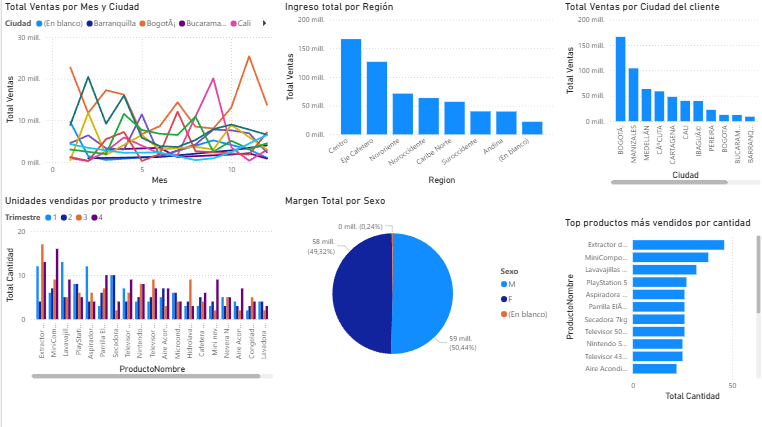

The page's visual inventory and layout, read from the dashboard file:
{"tool":"powerbi","page":{"name":"Reporte_ElectroHogar","canvas":[1280,720],"ordinal":0},"visuals":[{"type":"lineChart","fields":{"Y":["dw_electrohogar hecho_ventas.Total Ventas"],"Category":["dw_electrohogar dim_tiempo.Mes"],"Series":["dw_electrohogar dim_tiendas.Ciudad"]},"box":[10,0,456.7,313.3],"z":0},{"type":"pieChart","fields":{"Category":["dw_electrohogar dim_clientes.Sexo"],"Y":["dw_electrohogar hecho_ventas.Margen Total"]},"box":[477,323,457,313],"z":1000},{"type":"clusteredColumnChart","title":"Unidades vendidas por producto y trimestre","fields":{"Category":["dw_electrohogar dim_productos.ProductoNombre"],"Y":["dw_electrohogar hecho_ventas.Total Cantidad"],"Series":["dw_electrohogar dim_tiempo.Trimestre"]},"box":[10,323,457,313],"z":2000},{"type":"clusteredColumnChart","title":"Ingreso total por Región","fields":{"Category":["dw_electrohogar dim_tiendas.Region"],"Y":["dw_electrohogar hecho_ventas.Total Ventas"]},"box":[477,0,457,313],"z":3000},{"type":"clusteredColumnChart","title":"Total Ventas por Ciudad del cliente","fields":{"Category":["dw_electrohogar dim_clientes.Ciudad"],"Y":["dw_electrohogar hecho_ventas.Total Ventas"]},"box":[944,0,336,313],"z":4000},{"type":"clusteredBarChart","title":"Top productos más vendidos por cantidad","fields":{"Category":["dw_electrohogar dim_productos.ProductoNombre"],"Y":["dw_electrohogar hecho_ventas.Total Cantidad"]},"box":[943.3,360,336.7,313.3],"z":5000}]}

Visuals, with their boxes in screenshot pixels (x1, y1, x2, y2), scaled from the page's 1280x720 canvas onto the 762x427 screenshot:
lineChart - dw_electrohogar hecho_ventas.Total Ventas x dw_electrohogar dim_tiempo.Mes: [6, 0, 278, 186]
pieChart - dw_electrohogar dim_clientes.Sexo x dw_electrohogar hecho_ventas.Margen Total: [284, 192, 556, 377]
"Unidades vendidas por producto y trimestre" clusteredColumnChart: [6, 192, 278, 377]
"Ingreso total por Región" clusteredColumnChart: [284, 0, 556, 186]
"Total Ventas por Ciudad del cliente" clusteredColumnChart: [562, 0, 761, 186]
"Top productos más vendidos por cantidad" clusteredBarChart: [562, 214, 761, 399]
